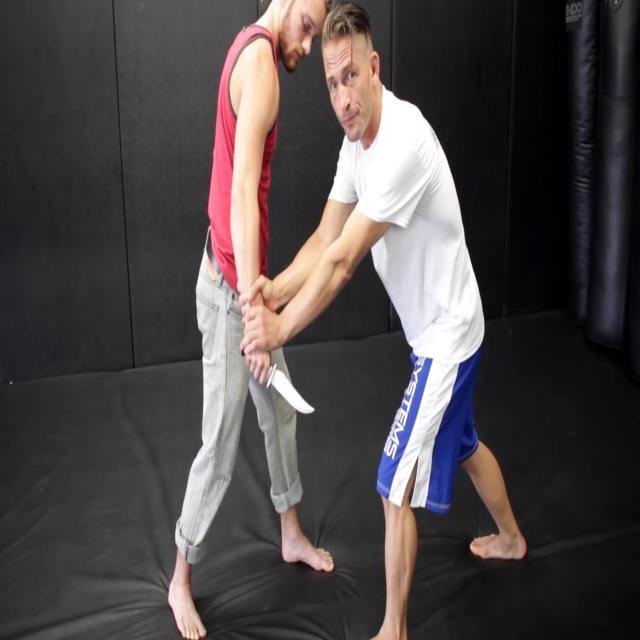knife: (270, 365, 318, 421)
